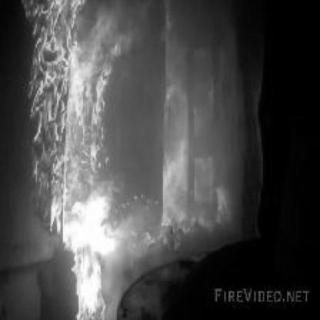Fire: (15, 2, 147, 306)
